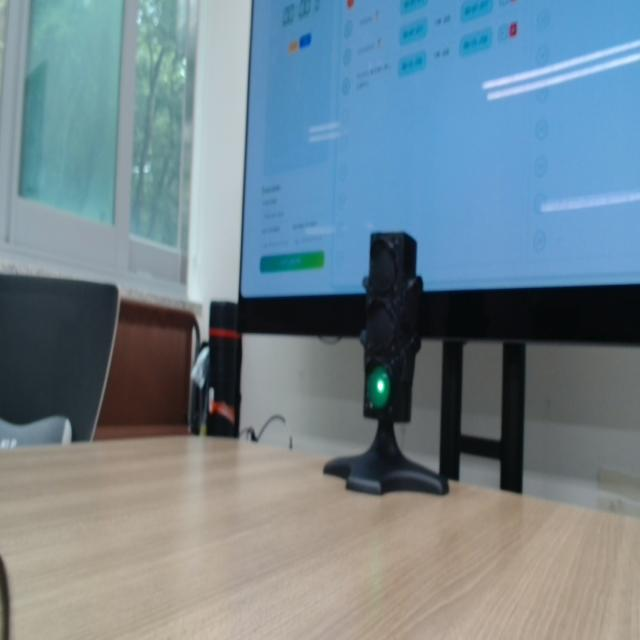green_light: (367, 367, 390, 410)
